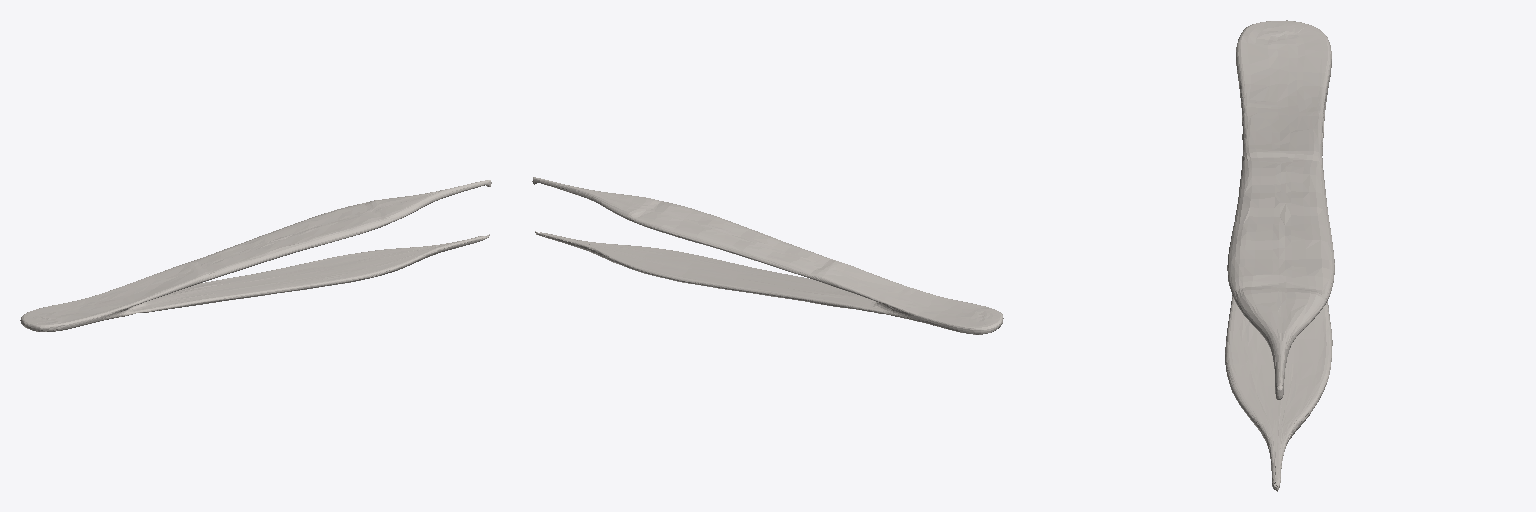
The robot description file, URDF, robot "Tooling_26":
<?xml version="1.0" encoding="utf-8"?>
<!-- This URDF was automatically created by SolidWorks to URDF Exporter! Originally created by Stephen Brawner (brawner@gmail.com)
     Commit Version: 1.6.0-4-g7f85cfe  Build Version: 1.6.7995.38578
     For more information, please see http://wiki.ros.org/sw_urdf_exporter -->
<robot
  name="Tooling_26">
  <link
    name="base_link">
    <inertial>
      <origin
        xyz="2.2693E-05 0.00011185 -1.8633E-06"
        rpy="0 0 0" />
      <mass
        value="0.022189" />
      <inertia
        ixx="6.3872E-07"
        ixy="-2.0444E-07"
        ixz="-1.3088E-07"
        iyy="1.8482E-05"
        iyz="4.4622E-09"
        izz="1.8725E-05" />
    </inertial>
    <visual>
      <origin
        xyz="0 0 0"
        rpy="0 0 0" />
      <geometry>
        <mesh
          filename="../meshes/base_link.STL" />
      </geometry>
      <material
        name="">
        <color
          rgba="0.77647 0.75686 0.73725 1" />
      </material>
    </visual>
    <collision>
      <origin
        xyz="0 0 0"
        rpy="0 0 0" />
      <geometry>
        <mesh
          filename="../meshes/base_link.STL" />
      </geometry>
    </collision>
  </link>
</robot>

--- What the picture shows (computed from the rendered views, not written in the file) ---
The picture shows the robot from 3 angles, left to right: view 1: azimuth 30°, elevation 25°; view 2: azimuth 150°, elevation 25°; view 3: azimuth 270°, elevation 25°; orthographic projection.
Robot: Tooling_26 — 1 links, 0 joints (none); root link base_link; default pose: all joints at 0.
Links seen in each view (by area): view 1: base_link; view 2: base_link; view 3: base_link.
Link boxes in pixels (x1,y1,x2,y2): base_link: (20,180,491,331); base_link: (532,177,1003,334); base_link: (1225,20,1334,491).
Size in the robot's own frame: 0.1216 by 0.0133 by 0.015 metres.
1 mesh visuals loaded from 1 distinct referenced files (1 binary STL).
